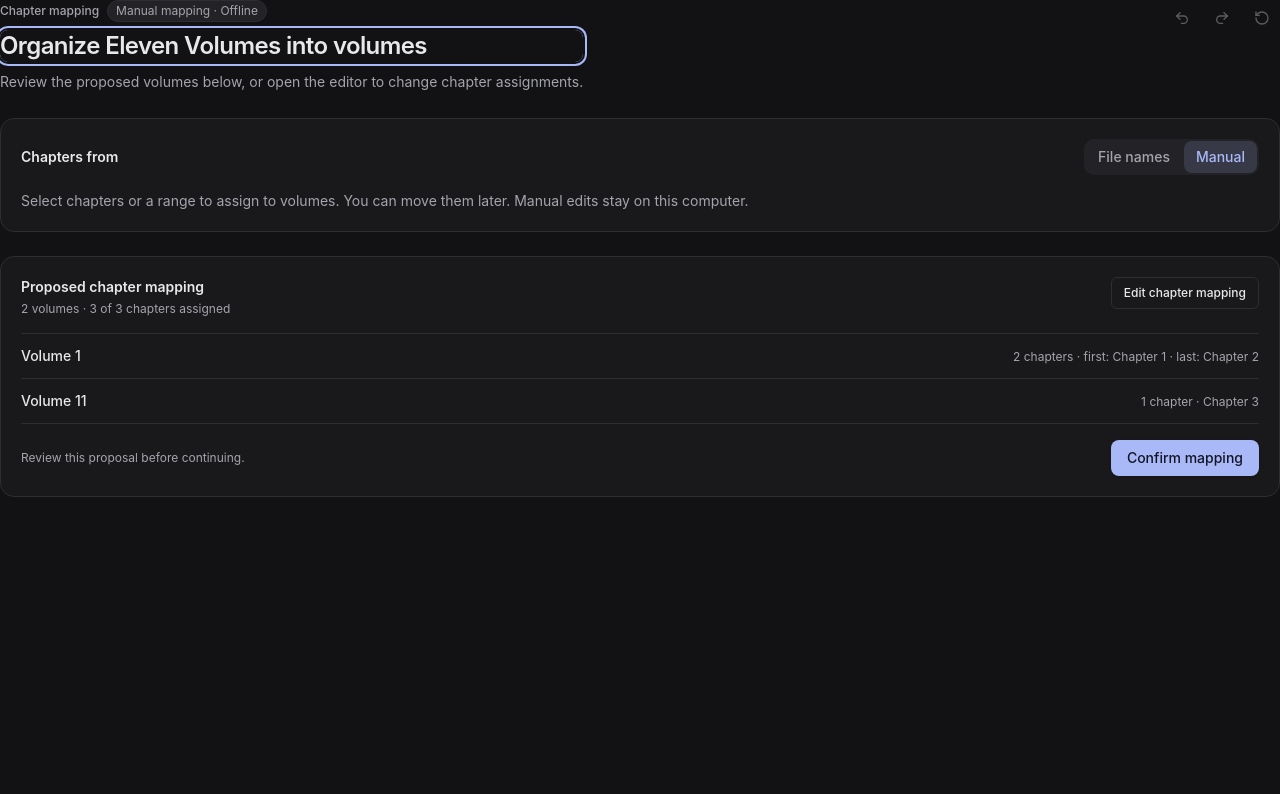
Test case: mapping editor › says what the number beside Add is, and what Split before does with it
This screenshot has width=1280, height=794.
Click the button "Edit chapter mapping" at (1185, 293), box [1111, 277, 1259, 309]
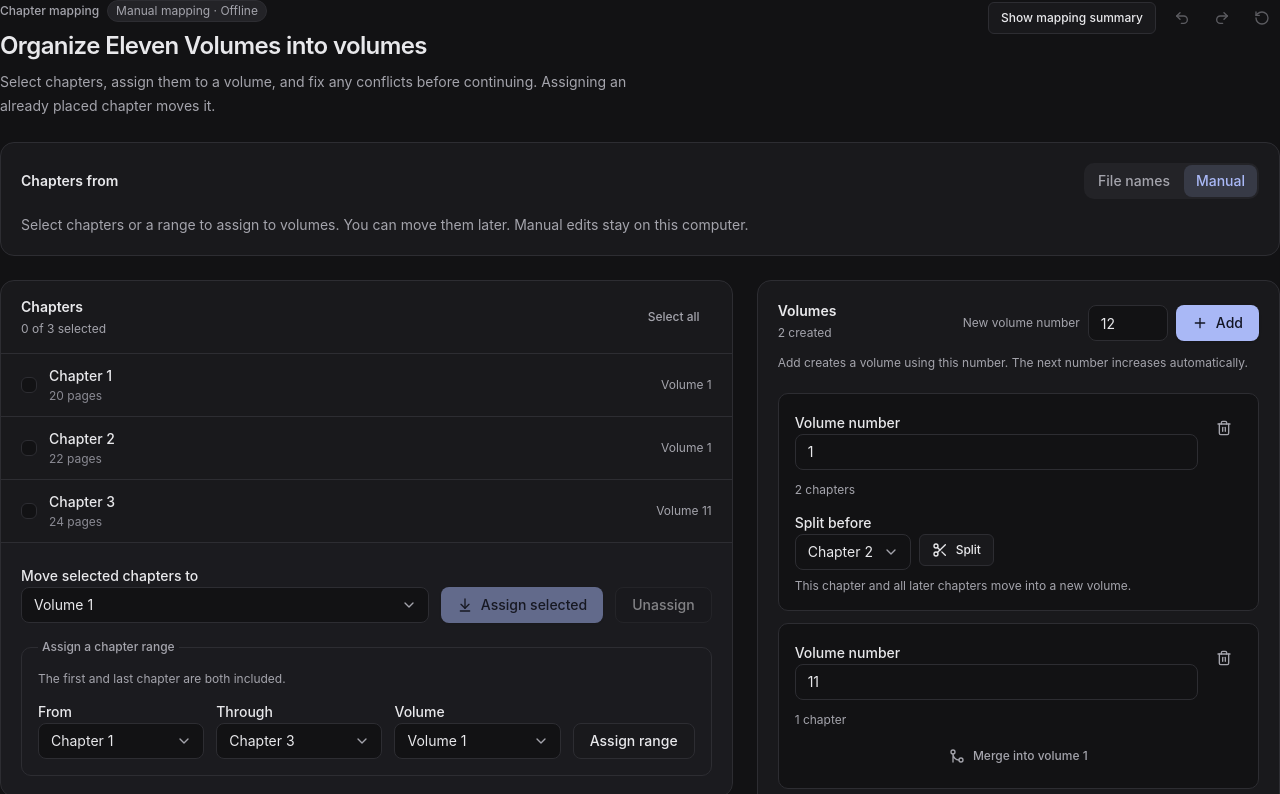
Result: the field labelled "New volume number" holds "12" at [1088, 305, 1168, 341]
Result: the text "This chapter and all later chapters move into a new volume." is shown at [795, 578, 1131, 592]
Note: Split before cuts the volume before the chosen chapter and gives the rest that next number.
Click the button with aria-label "Split volume 1" at (956, 550), box [919, 534, 994, 566]
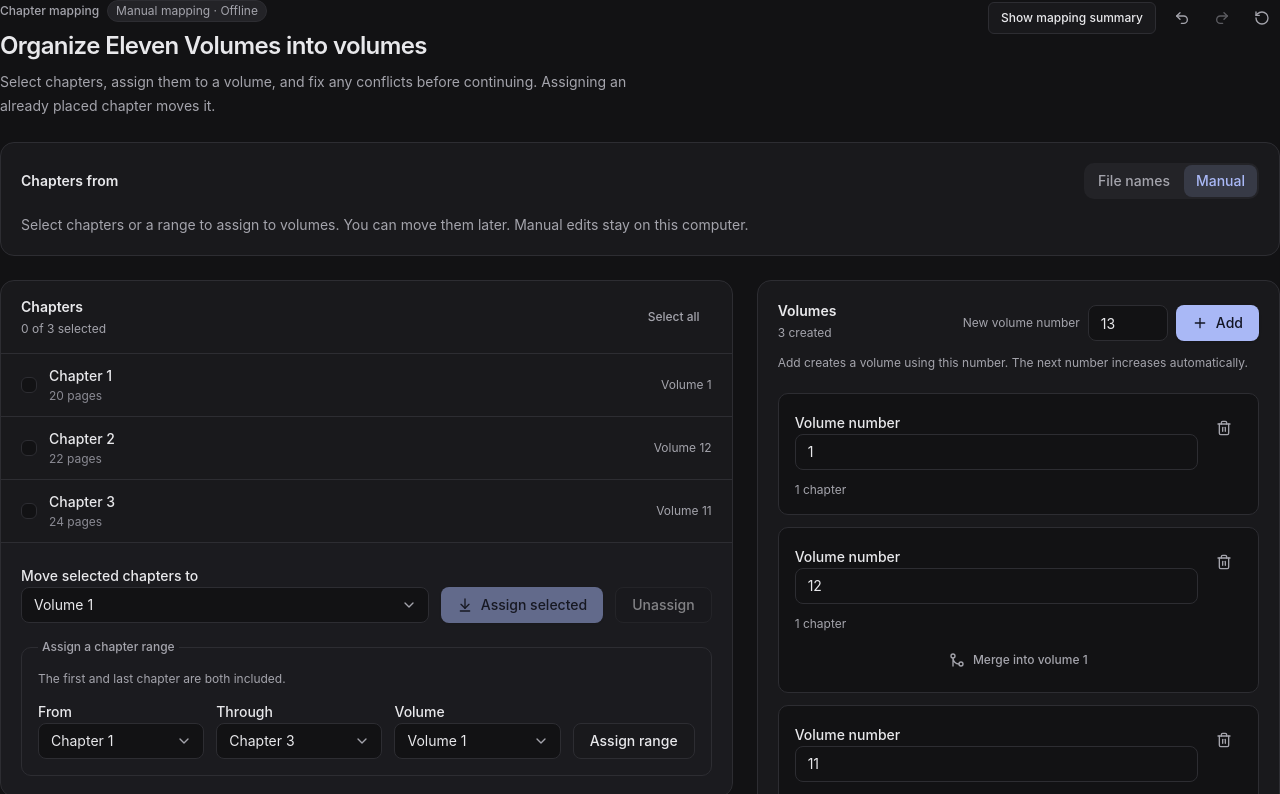
Result: the field labelled "New volume number" holds "13" at [1088, 305, 1168, 341]
Note: Add uses the box, and the box counts up by itself.
Click the button with aria-label "Add volume" at (1217, 323), box [1176, 305, 1259, 341]
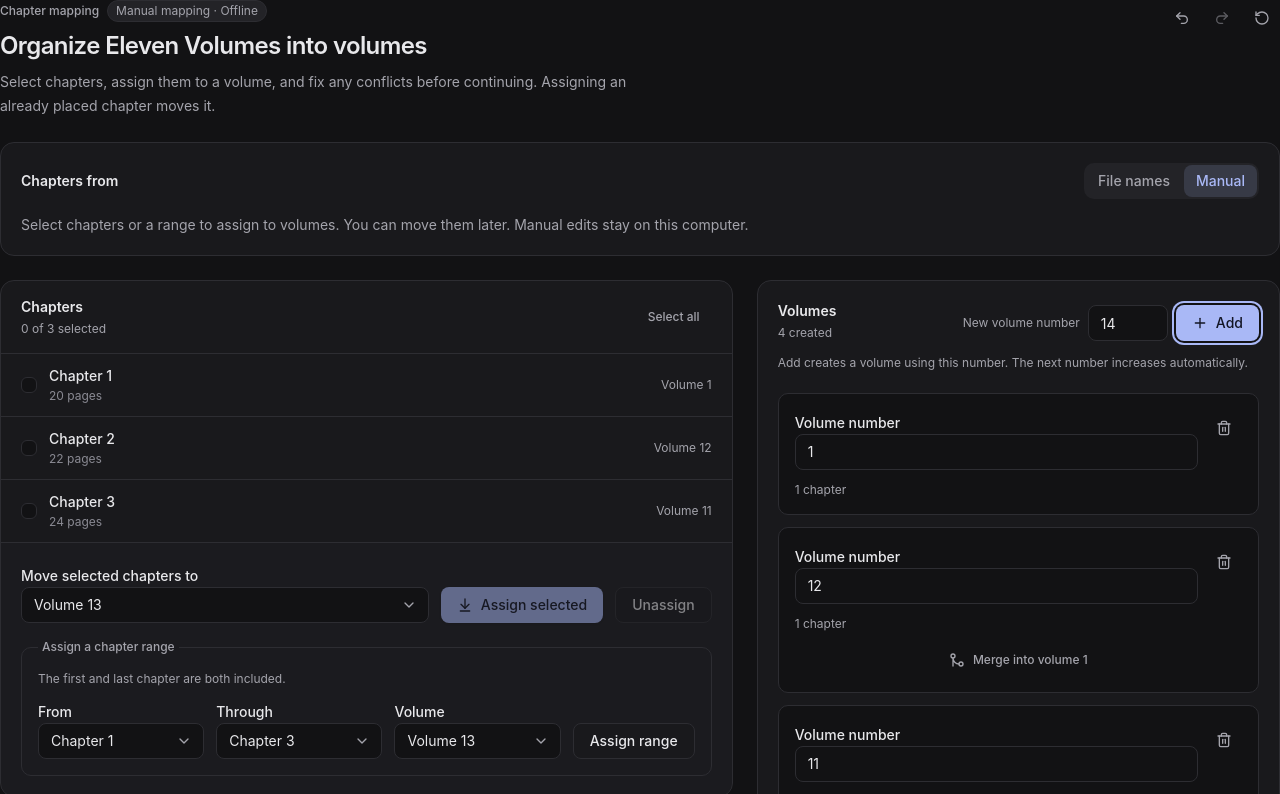
Result: the field labelled "New volume number" holds "14" at [1088, 305, 1168, 341]
